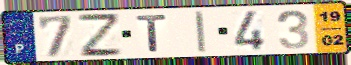3: (275, 9, 310, 50)
4: (232, 9, 267, 52)
7: (36, 14, 75, 59)
I: (193, 10, 208, 55)
T: (134, 13, 170, 53)
Z: (75, 12, 126, 59)
